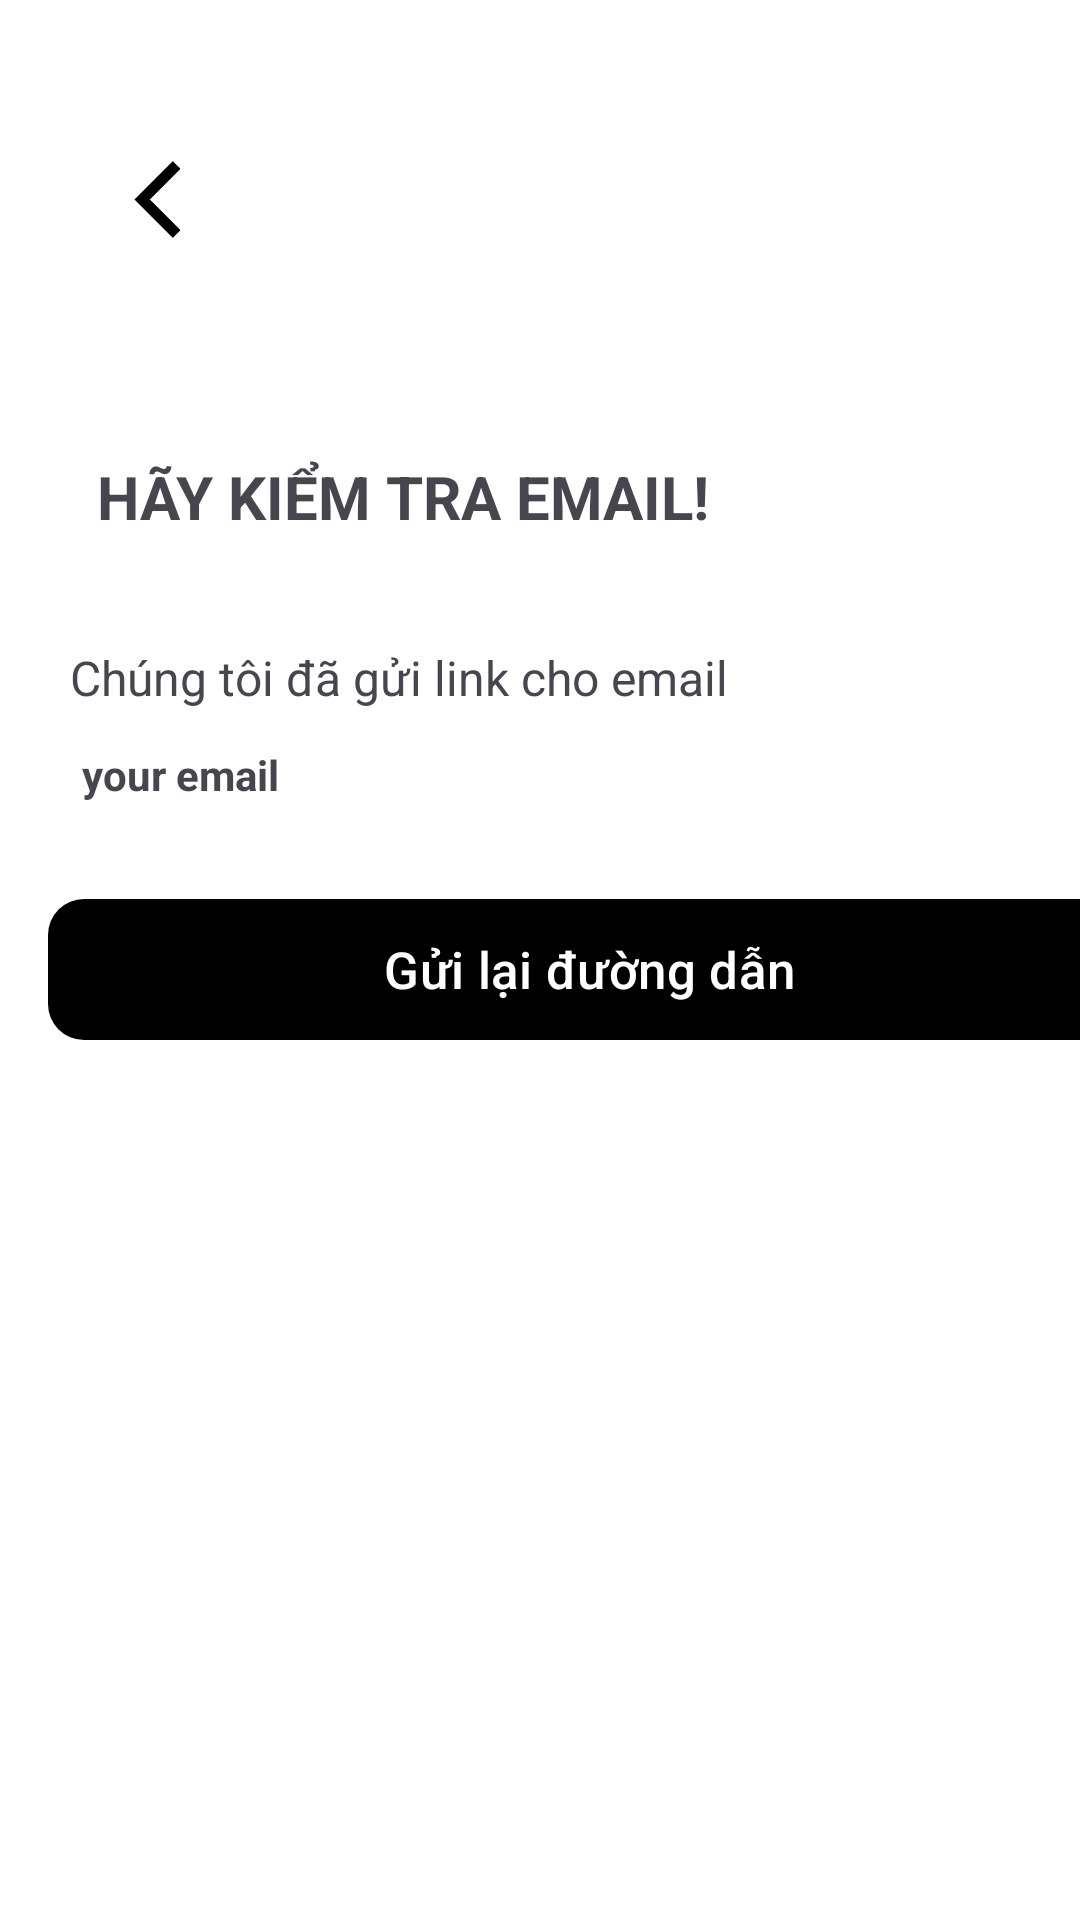

Icon click points for this 1080 x 1920 phone screenshot, format (x=x, y=y):
arrow back: (x=157, y=199)
